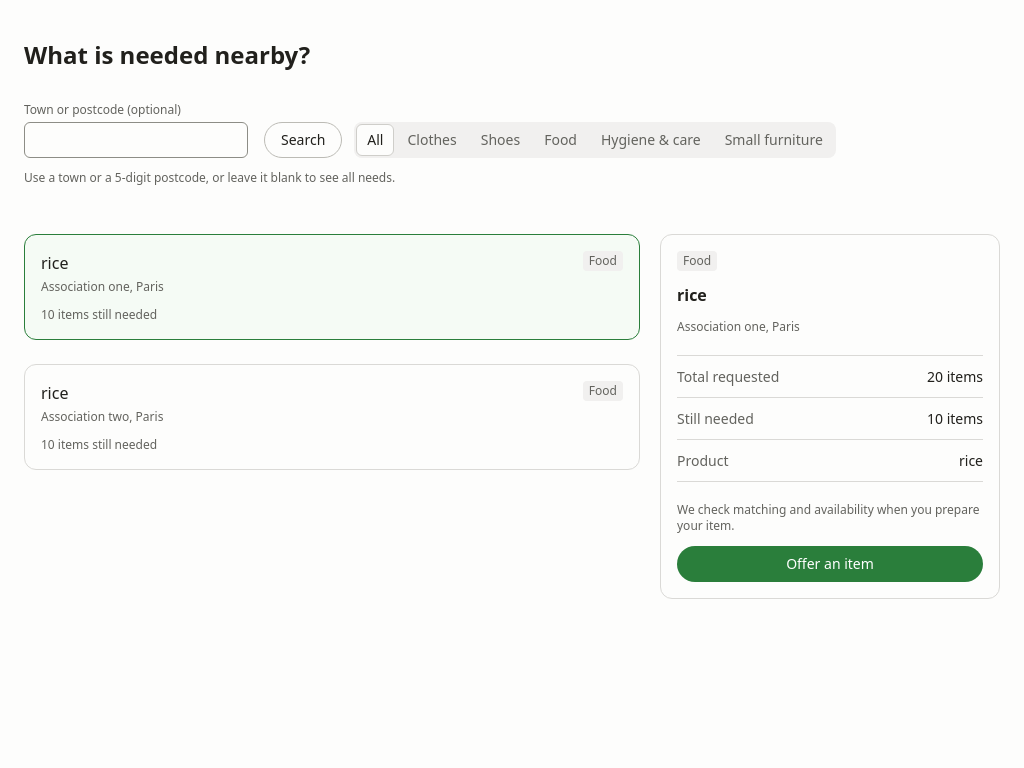
Test: selects the first result after the category search changes
What coordinates should you click on to do the following:
click the 2nd button with class "need-row"
I would click on:
 (85, 416)
Its box is [24,364,640,470].
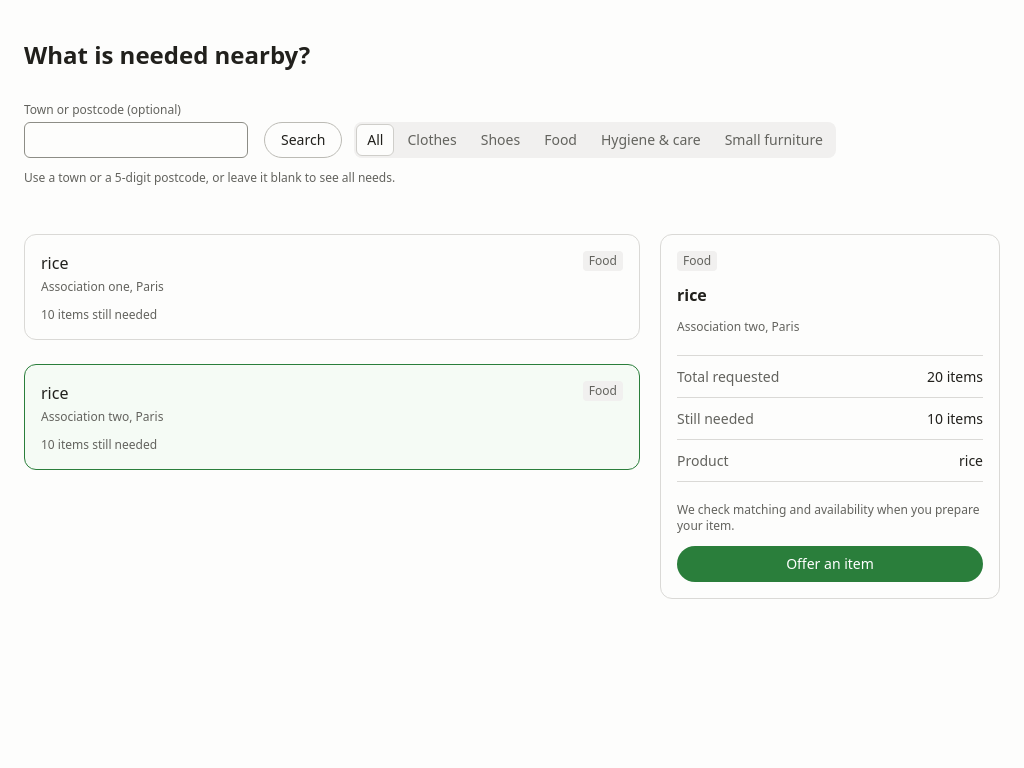
Check: the element named "Selected need" shows "Association two", box [677,318,765,335]
What coordinates should you click on to do the following:
click the button "Food"
I would click on:
 (561, 140)
Its box is [533,124,588,156].
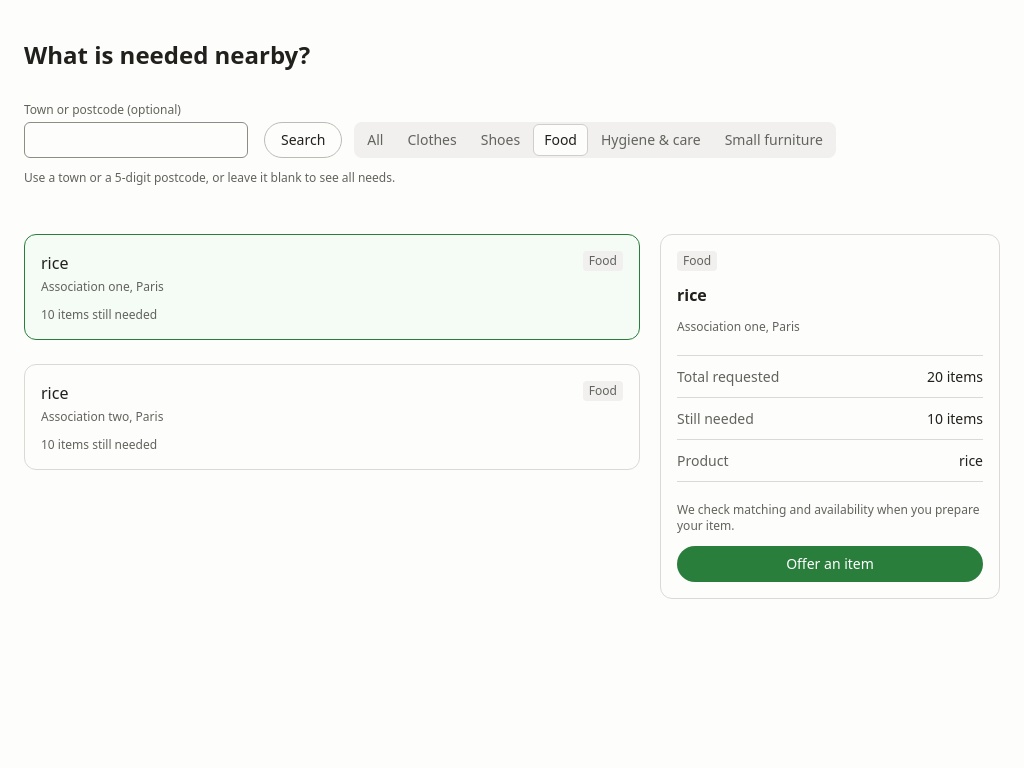
Check: the button with class "need-row" shows "Association one", box [24,234,640,340]
Check: the element named "Selected need" shows "Association one", box [677,318,766,335]
